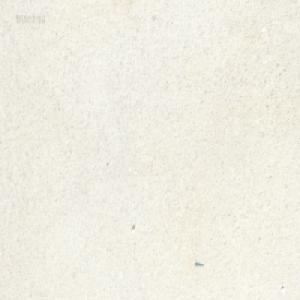Nail: (194, 259, 203, 266)
